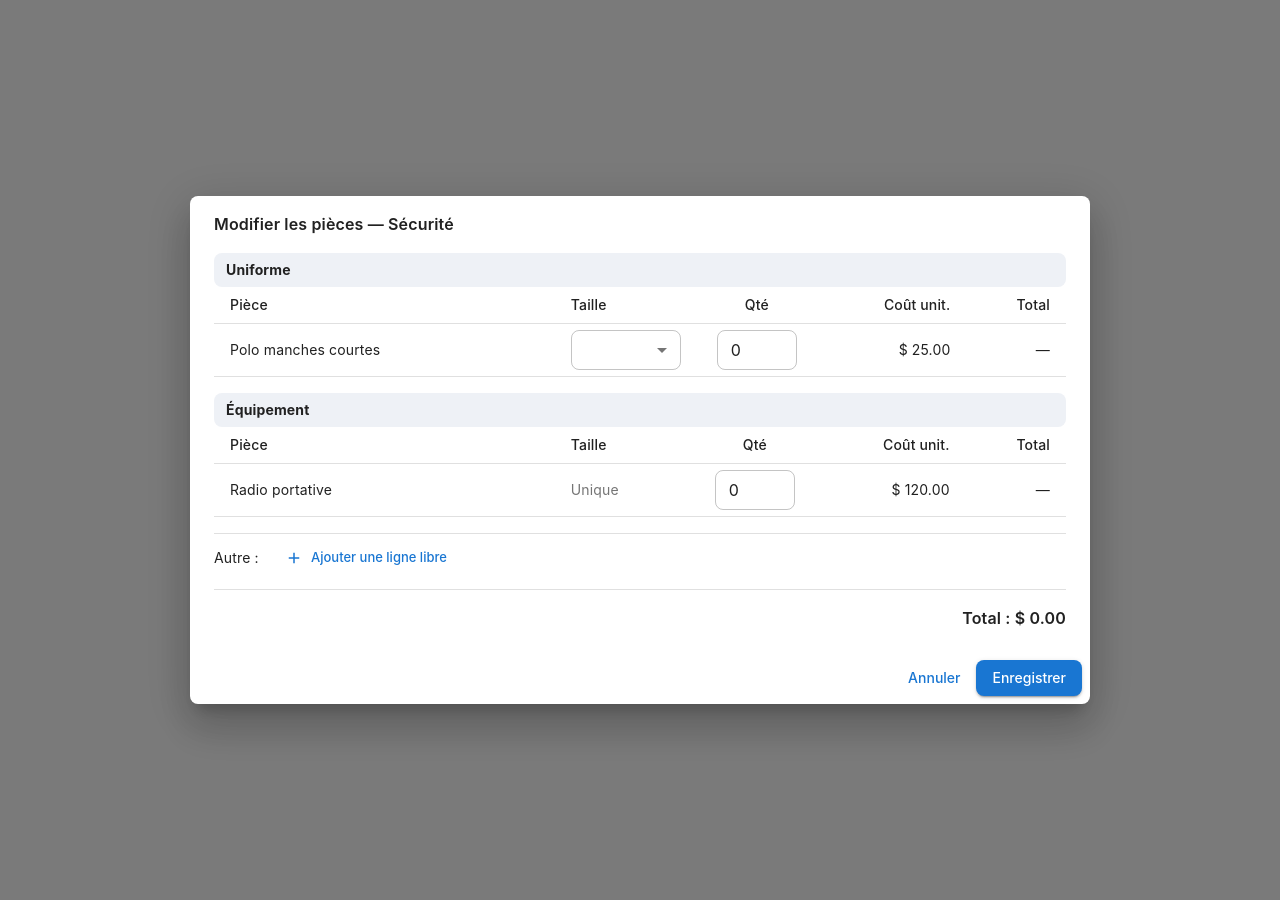
it: IssuanceLinesEditor › ajoute une ligne libre au clic sur "Ajouter une ligne libre"
Check: the text "Polo manches courtes" is shown, box [214,324,555,377]
Check: the field labelled "Désignation" is not shown
Click the button "Ajouter une ligne libre" at x=367, y=558, box [282,542,452,573]
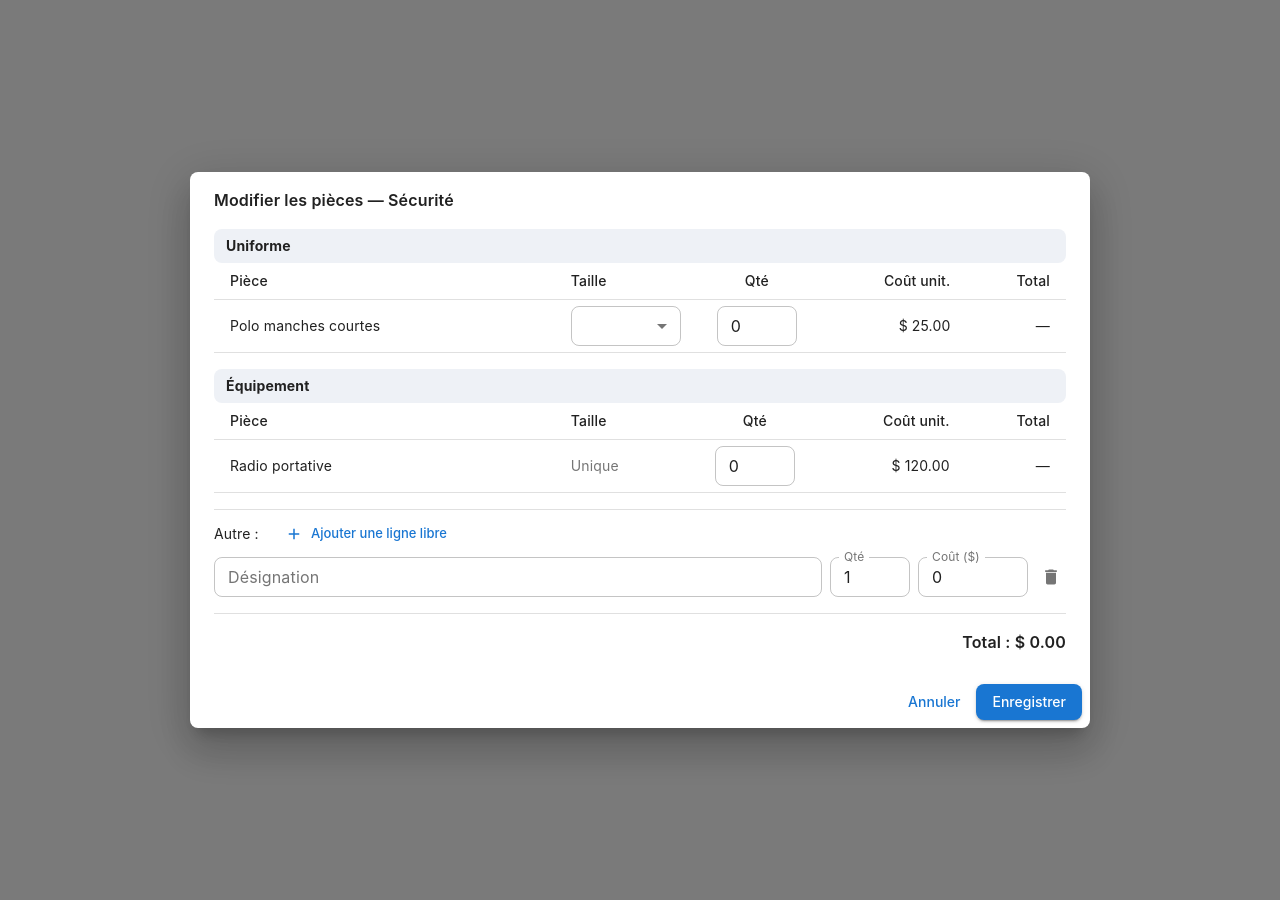
Check: the field labelled "Désignation" is shown, box [214,557,822,597]
Check: the number field labelled "Qté" is shown, box [830,557,910,597]
